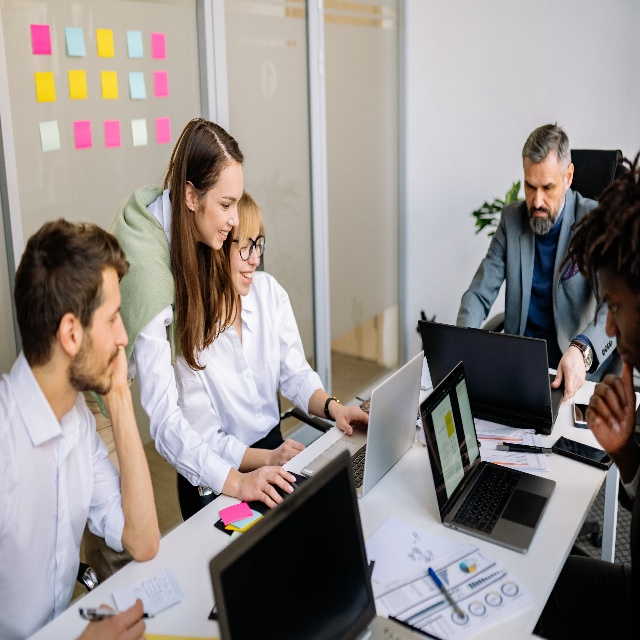Gafas: (231, 235, 266, 260)
Sin_guantes: (582, 364, 638, 458), (81, 596, 147, 640), (239, 464, 298, 512), (550, 348, 585, 404), (336, 404, 370, 436), (272, 436, 307, 465)
